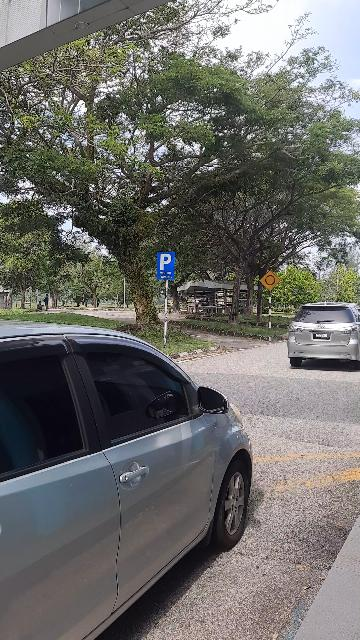License_Plate: (312, 332, 332, 341)
car: (1, 318, 259, 640), (287, 303, 360, 367)
